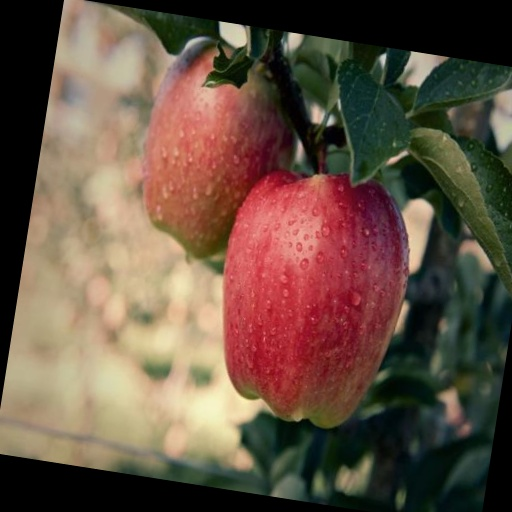fruit: (223, 171, 407, 428), (143, 44, 293, 258)
